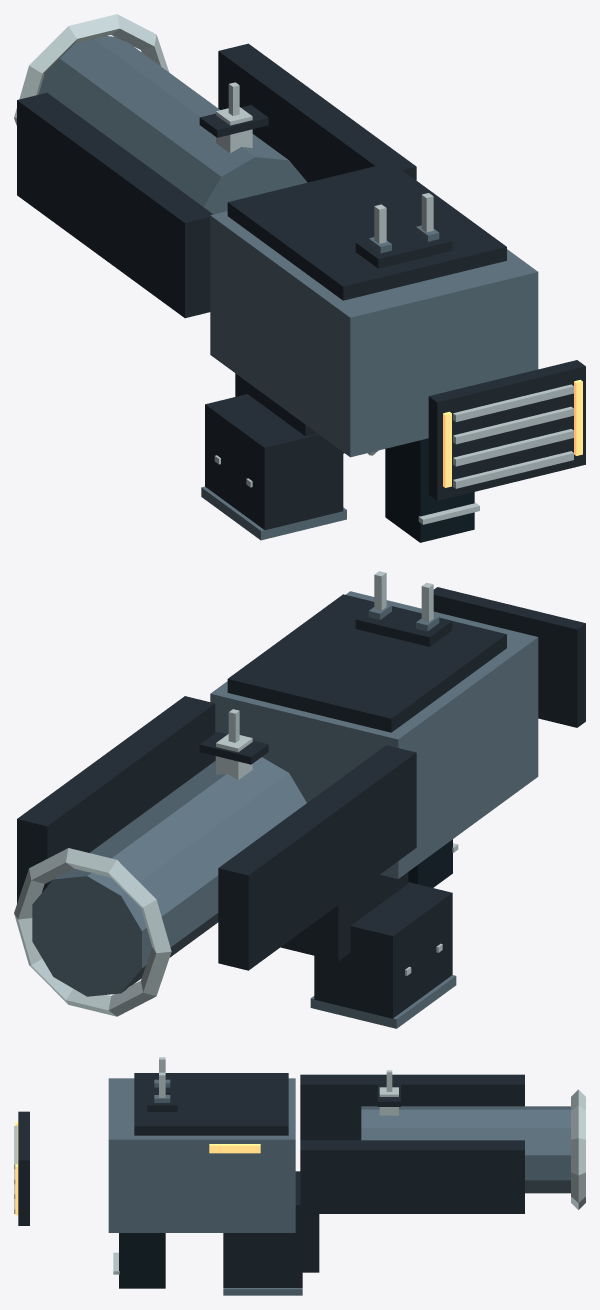
Rendered from world-7.glb.
3 renders of one model, top to bottom at view 1: azimuth 30°, elevation 25°; view 2: azimuth 150°, elevation 25°; view 3: azimuth 270°, elevation 25°, orthographic. The views are drawn at different scales.
Parts seen in each view (by area): view 1: body-dark, body-light, flak-barrel-light, feed-dark, body-trim, body-rubber, feed-light, body-glow; view 2: body-dark, body-light, flak-barrel-light, feed-dark, body-trim, feed-light, body-rubber; view 3: body-dark, body-light, flak-barrel-light, body-trim, body-rubber, feed-dark, body-glow, feed-light.
Part boxes in pixels (x1,y1,x2,y2): body-dark: (17,43,585,500); body-light: (210,211,538,457); flak-barrel-light: (38,36,307,214); feed-dark: (205,394,343,530); body-trim: (14,14,573,524); body-rubber: (385,438,474,542); feed-light: (201,486,346,540); body-glow: (443,380,582,487); body-dark: (17,587,585,970); body-light: (210,591,538,878); flak-barrel-light: (32,757,306,996); feed-dark: (314,882,452,1018); body-trim: (14,571,458,1016); feed-light: (310,975,456,1028); body-rubber: (408,839,452,887); body-dark: (18,1073,524,1272); body-light: (108,1078,295,1232); flak-barrel-light: (361,1106,570,1193); body-trim: (14,1057,585,1274); body-rubber: (119,1233,165,1288); feed-dark: (223,1233,302,1287); body-glow: (15,1121,260,1215); feed-light: (223,1288,302,1295).
Size of the model in its own units: 0.382 by 0.5495 by 1.22.
